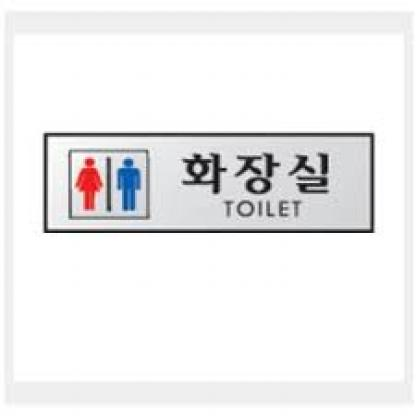toilet: (74, 152, 145, 214)
